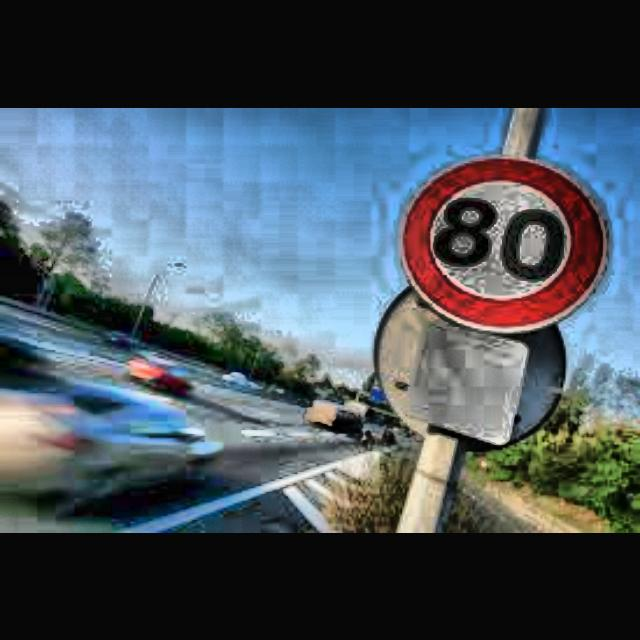speed_80: (405, 157, 605, 327)
